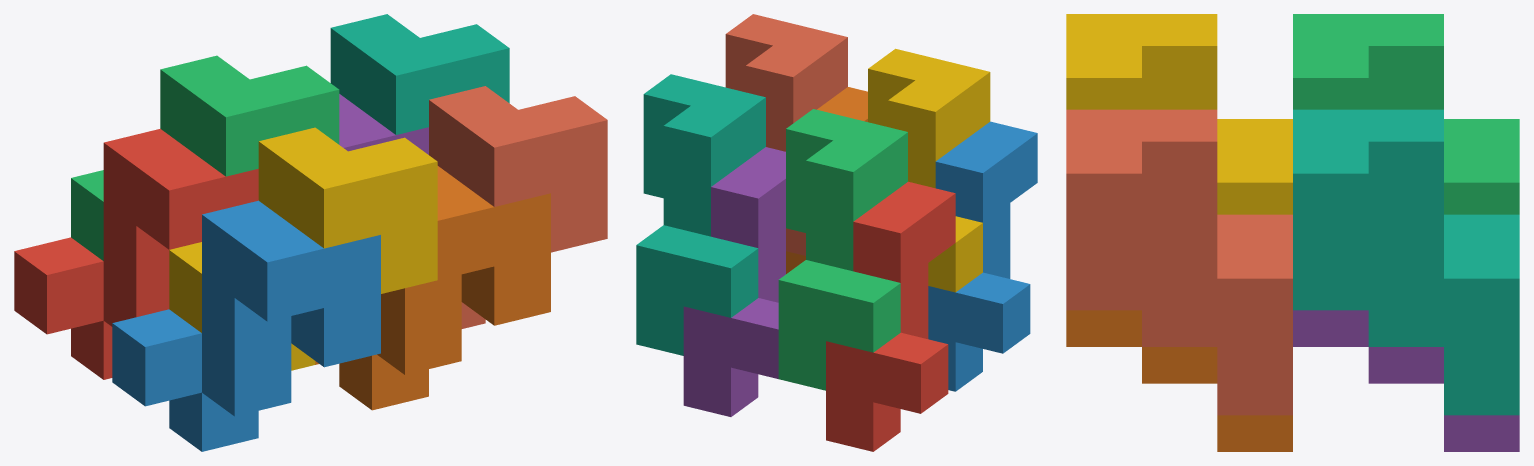
The model's file is tiling.obj.
The picture shows the model from 3 angles, left to right: view 1: azimuth 30°, elevation 25°; view 2: azimuth 150°, elevation 25°; view 3: azimuth 270°, elevation 25°; orthographic projection. The views are drawn at different scales.
Parts seen in each view (by area): view 1: copy_1_domain_2, copy_1_domain_1, copy_1_domain_6, copy_1_domain_4, copy_1_domain_8, copy_1_domain_3, copy_1_domain_7, copy_1_domain_5; view 2: copy_1_domain_7, copy_1_domain_3, copy_1_domain_1, copy_1_domain_2, copy_1_domain_5, copy_1_domain_4, copy_1_domain_8, copy_1_domain_6; view 3: copy_1_domain_8, copy_1_domain_7, copy_1_domain_4, copy_1_domain_3, copy_1_domain_5, copy_1_domain_6.
Part boxes in pixels (<box>): copy_1_domain_2: <box>112,200,380,451</box>; copy_1_domain_1: <box>14,128,258,379</box>; copy_1_domain_6: <box>315,166,550,410</box>; copy_1_domain_4: <box>169,127,437,370</box>; copy_1_domain_8: <box>429,86,607,328</box>; copy_1_domain_3: <box>71,55,339,260</box>; copy_1_domain_7: <box>330,14,509,134</box>; copy_1_domain_5: <box>339,94,428,154</box>; copy_1_domain_7: <box>636,74,765,355</box>; copy_1_domain_3: <box>778,109,907,390</box>; copy_1_domain_1: <box>826,181,955,451</box>; copy_1_domain_2: <box>928,121,1037,391</box>; copy_1_domain_5: <box>683,147,785,416</box>; copy_1_domain_4: <box>868,48,990,292</box>; copy_1_domain_8: <box>725,14,847,255</box>; copy_1_domain_6: <box>786,87,867,273</box>; copy_1_domain_8: <box>1066,109,1292,415</box>; copy_1_domain_7: <box>1293,109,1519,415</box>; copy_1_domain_4: <box>1066,14,1292,214</box>; copy_1_domain_3: <box>1293,14,1519,214</box>; copy_1_domain_5: <box>1293,310,1519,451</box>; copy_1_domain_6: <box>1066,310,1292,451</box>.
Bounding box in the file's own units: 7 × 5 × 6.
